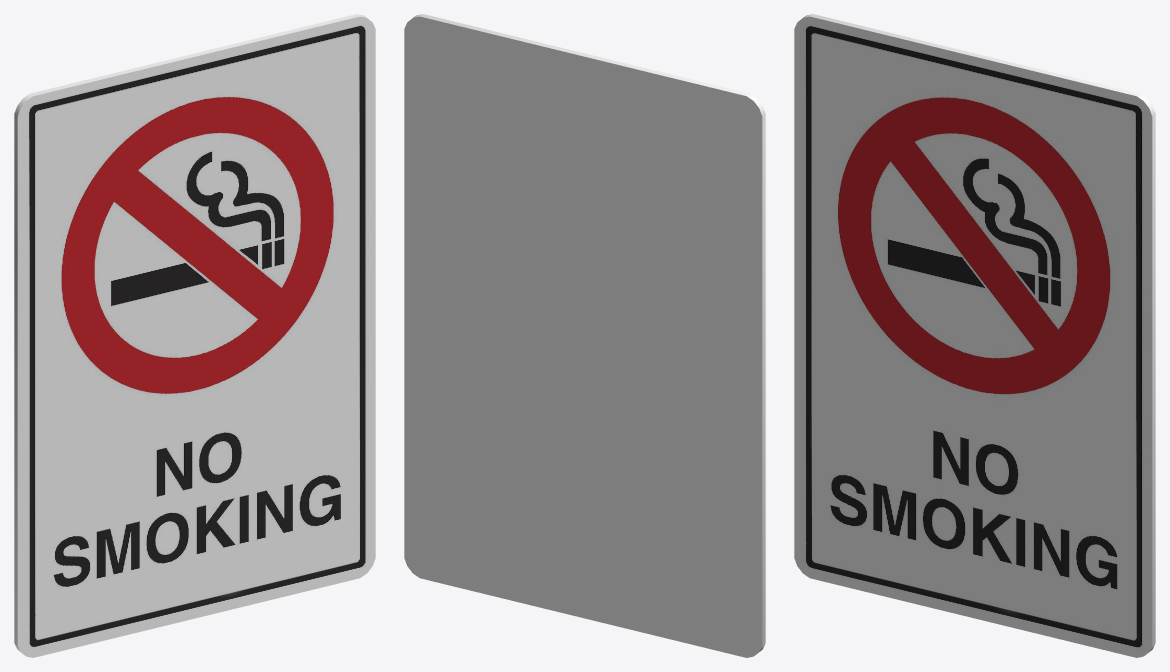
File: Poster 3.FBX
3 views of the same model, side by side, from view 1: azimuth 30°, elevation 25°; view 2: azimuth 150°, elevation 25°; view 3: azimuth 330°, elevation 25° (orthographic).
Parts seen in each view (by area): view 1: poster 3; view 2: poster 3; view 3: poster 3.
Part boxes in pixels (x1,y1,x2,y2): poster 3: (14,14,375,657); poster 3: (404,14,765,657); poster 3: (794,14,1155,657).
Bounding box in the file's own units: 30 × 45 × 0.5.
1 material, 1 textured.
